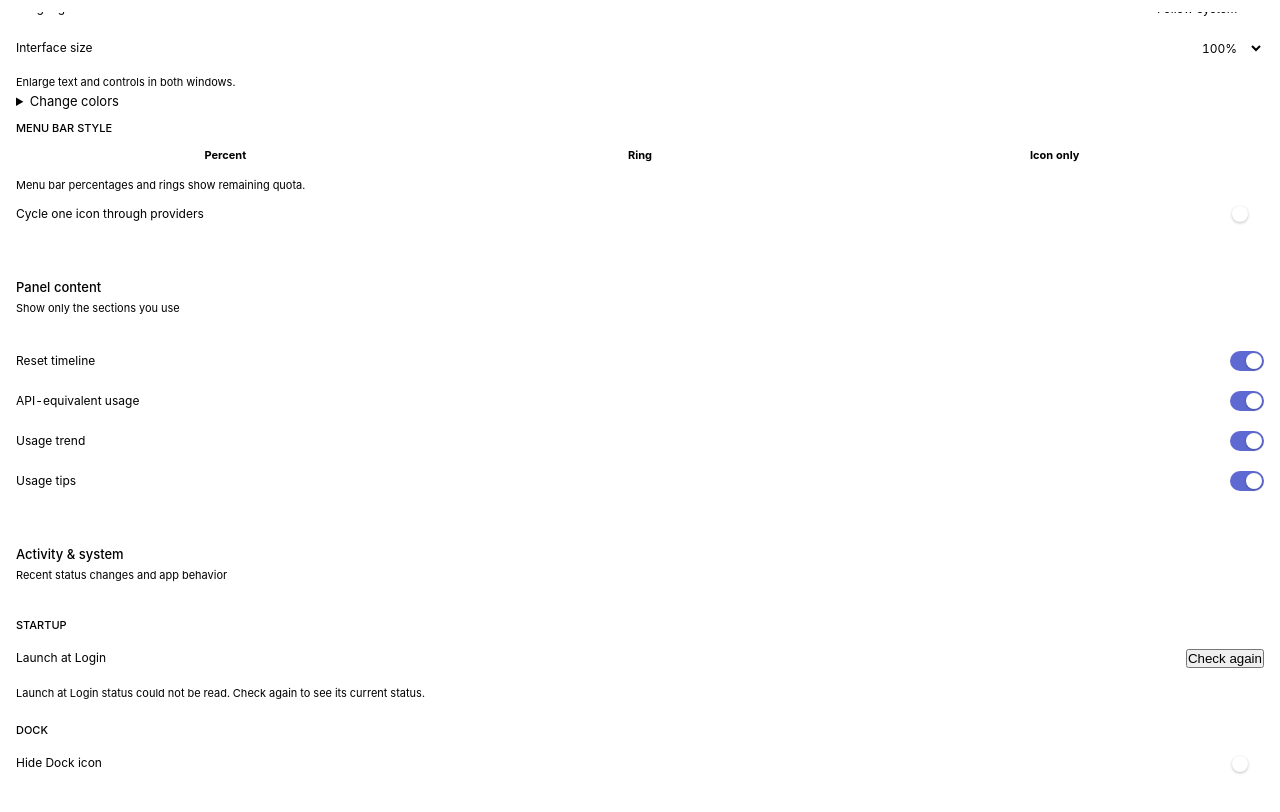
Test: Launch at Login settings row › offers a read-only recheck instead of an off switch when status cannot be read
(page scrolled)
Expected: the message reads "Launch at Login status could not be read. Check again to see its current status.", [16, 686, 425, 700]
Step 1. Click the button "Check again" → (1225, 659), box [1186, 649, 1264, 668]
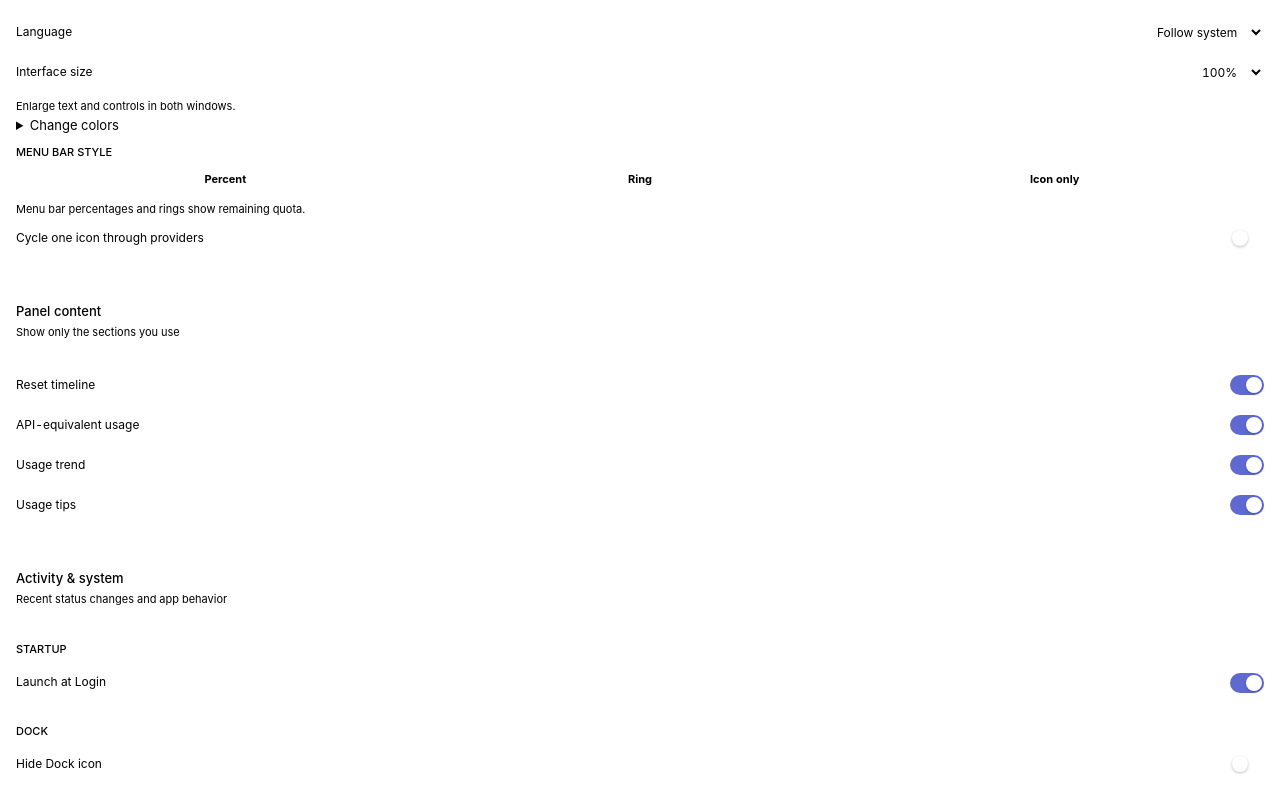
Result: no messages are shown
